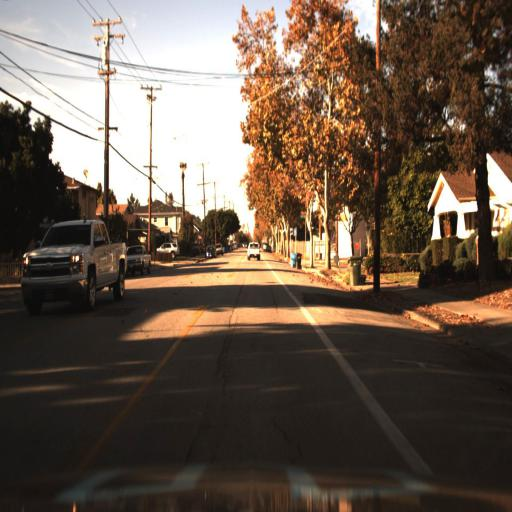car: (21, 218, 127, 321), (123, 242, 152, 280), (154, 237, 184, 261), (201, 243, 217, 265), (246, 241, 262, 261)
